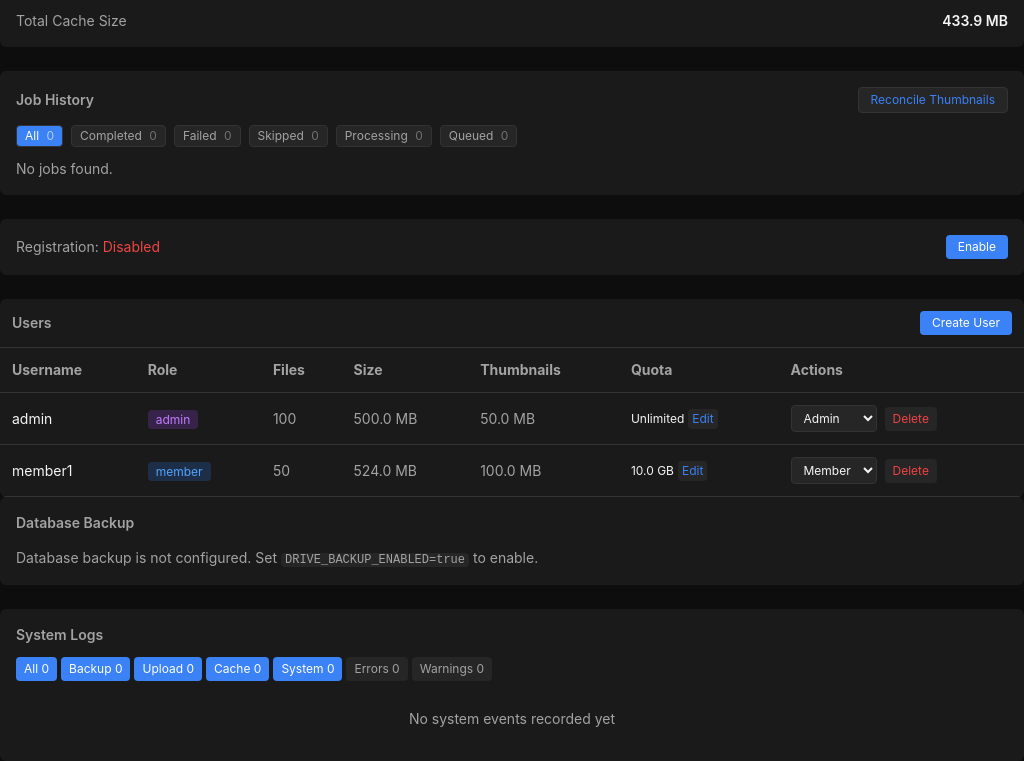
Test: AdminView › shows inline quota edit inputs on Edit click
This screenshot has width=1024, height=761.
(page scrolled)
Click the button "Edit" next to "Unlimited": [703, 419] box 688,409 -> 718,429
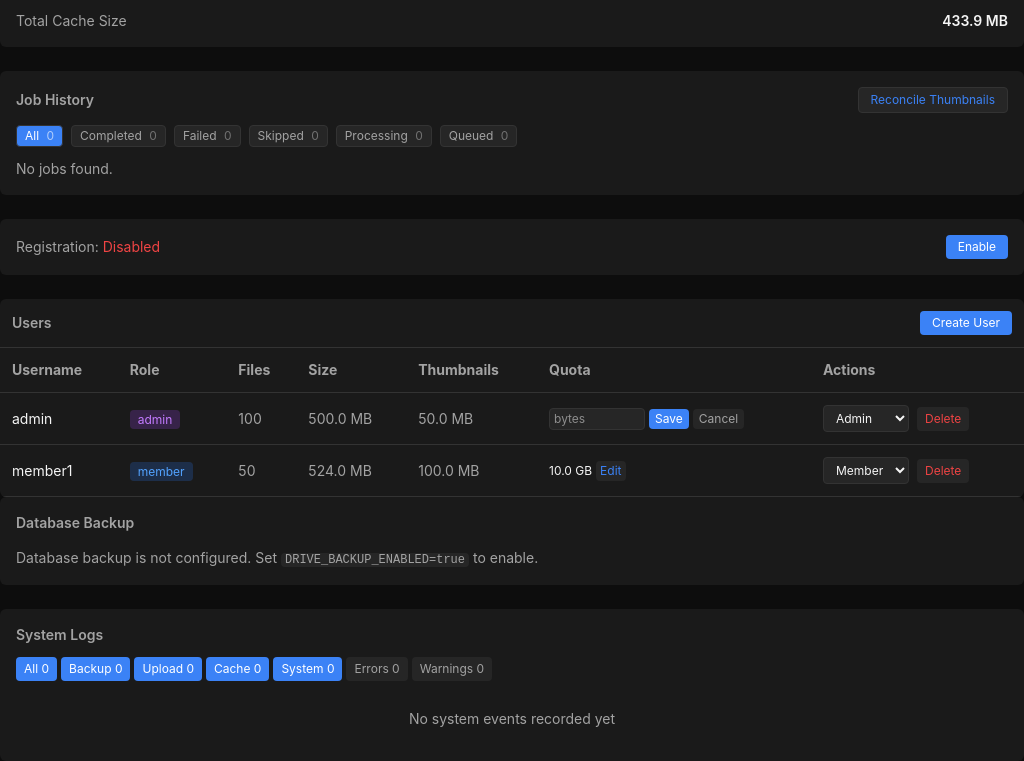
Expected: the text "Save" is shown, 649,408 -> 689,428
Expected: the text "Cancel" is shown, 693,408 -> 744,428
